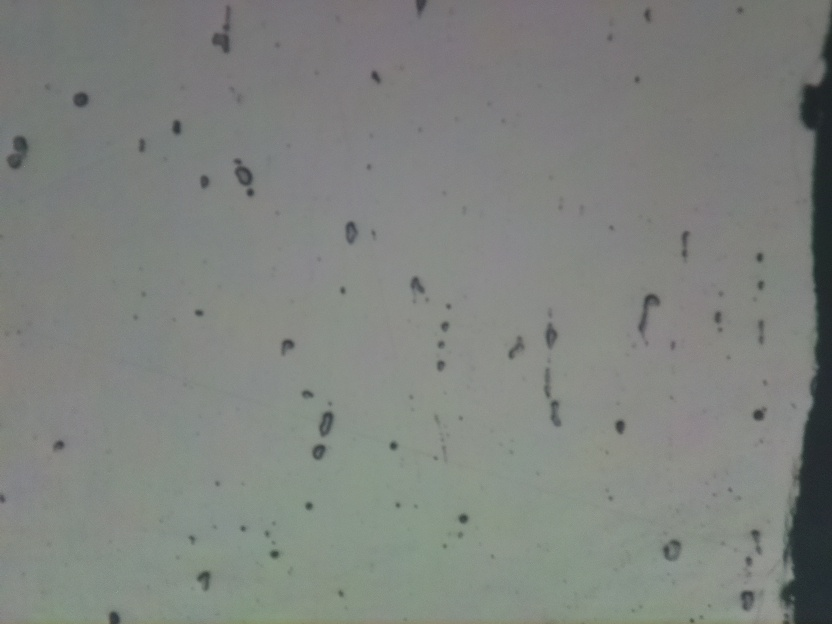crack: (786, 17, 832, 624)
